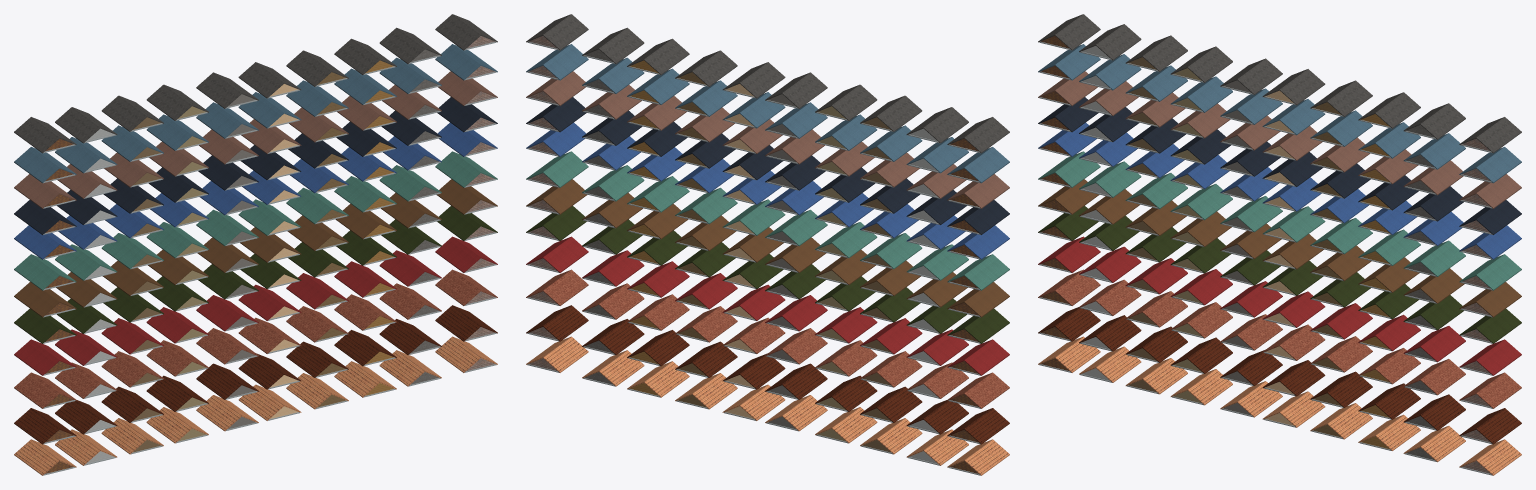
File: ModularHouses_Roof_V3_01.fbx
3 views of the same model, side by side, from view 1: azimuth 30°, elevation 25°; view 2: azimuth 150°, elevation 25°; view 3: azimuth 330°, elevation 25° (orthographic).
Visible parts, largest first — view 1: Roof_V_3_6_1, Roof_V_3_10_10, Roof_V_3_1_10, Roof_V_3_1_11, Roof_V_3_5_1, Roof_V_3_7_1, Roof_V_3_8_1, Roof_V_3_9_1, Roof_V_3_10_1, Roof_V_3_1_9, Roof_V_3_5_11, Roof_V_3_10_11 (+108 smaller); view 2: Roof_V_3_1_10, Roof_V_3_1_11, Roof_V_3_5_1, Roof_V_3_6_1, Roof_V_3_7_1, Roof_V_3_10_1, Roof_V_3_10_10, Roof_V_3_1_9, Roof_V_3_8_1, Roof_V_3_9_1, Roof_V_3_10_11, Roof_V_3_1_1 (+108 smaller); view 3: Roof_V_3_7_1, Roof_V_3_1_1, Roof_V_3_6_1, Roof_V_3_8_1, Roof_V_3_9_11, Roof_V_3_10_10, Roof_V_3_10_11, Roof_V_3_2_1, Roof_V_3_5_1, Roof_V_3_10_9, Roof_V_3_4_11, Roof_V_3_9_1 (+108 smaller).
Part boxes in pixels (x1,y1,x2,y2): Roof_V_3_6_1: (238,62,301,98); Roof_V_3_10_10: (435,269,497,305); Roof_V_3_1_10: (14,372,76,408); Roof_V_3_1_11: (14,408,76,444); Roof_V_3_5_1: (196,72,258,108); Roof_V_3_7_1: (286,50,348,86); Roof_V_3_8_1: (334,38,396,74); Roof_V_3_9_1: (379,27,441,64); Roof_V_3_10_1: (435,14,497,50); Roof_V_3_1_9: (14,339,76,375); Roof_V_3_5_11: (196,363,258,399); Roof_V_3_10_11: (435,305,497,341); Roof_V_3_1_10: (947,372,1009,408); Roof_V_3_1_11: (947,408,1009,444); Roof_V_3_5_1: (765,72,827,108); Roof_V_3_6_1: (722,62,785,98); Roof_V_3_7_1: (675,50,737,86); Roof_V_3_10_1: (526,14,588,50); Roof_V_3_10_10: (526,269,588,305); Roof_V_3_1_9: (947,339,1009,375); Roof_V_3_8_1: (627,38,689,74); Roof_V_3_9_1: (582,27,644,64); Roof_V_3_10_11: (526,305,588,341); Roof_V_3_1_1: (947,117,1009,153); Roof_V_3_7_1: (1310,80,1372,116); Roof_V_3_1_1: (1038,14,1100,50); Roof_V_3_6_1: (1262,69,1325,105); Roof_V_3_8_1: (1358,92,1420,128); Roof_V_3_9_11: (1403,394,1465,430); Roof_V_3_10_10: (1459,372,1521,408); Roof_V_3_10_11: (1459,408,1521,444); Roof_V_3_2_1: (1079,24,1141,60); Roof_V_3_5_1: (1220,58,1282,94); Roof_V_3_10_9: (1459,339,1521,375); Roof_V_3_4_11: (1170,337,1232,373); Roof_V_3_9_1: (1403,103,1465,139).
Bounding box in the file's own units: 581 × 408 × 62.95.
